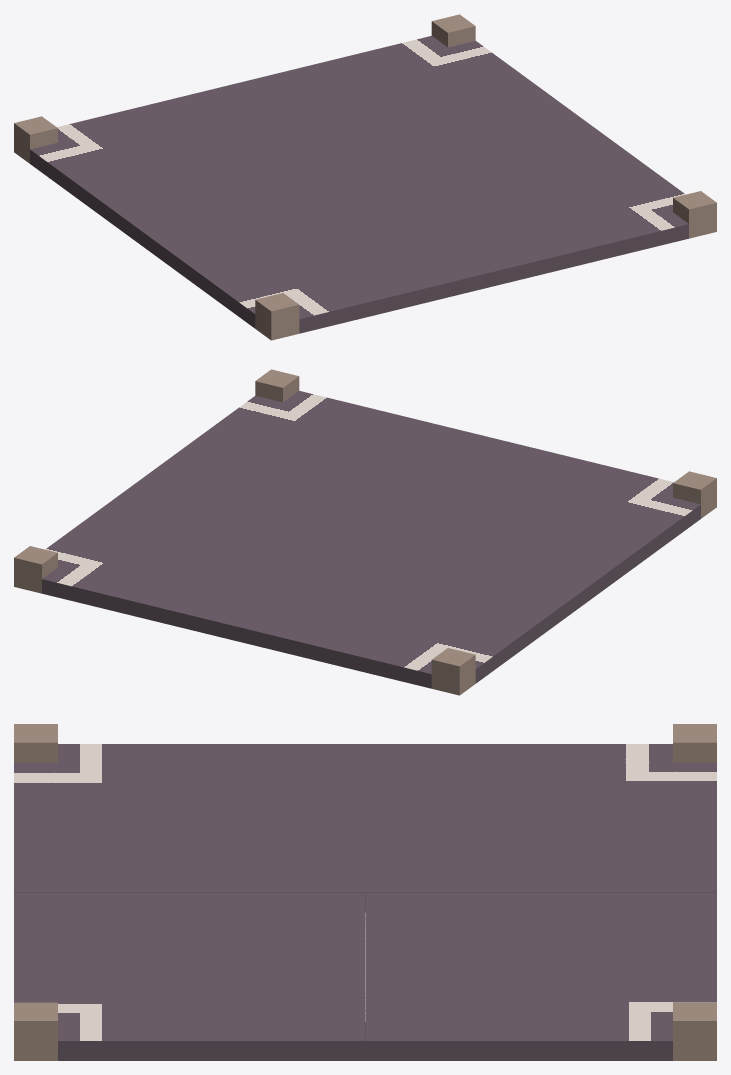
File: kreuzung.obj
The picture shows the model from 3 angles, top to bottom: view 1: azimuth 30°, elevation 25°; view 2: azimuth 150°, elevation 25°; view 3: azimuth 270°, elevation 25°; orthographic projection. The views are drawn at different scales.
Visible parts, largest first — view 1: street, cube; view 2: street, cube; view 3: street, cube.
Part boxes in pixels (left/top/right/bottom): street: left=30, top=35, right=688, bottom=333; cube: left=14, top=14, right=716, bottom=340; street: left=42, top=390, right=700, bottom=688; cube: left=14, top=369, right=716, bottom=695; street: left=14, top=744, right=716, bottom=1060; cube: left=14, top=724, right=716, bottom=1060.
Size of the model in its own units: 2 by 0.125 by 2.
